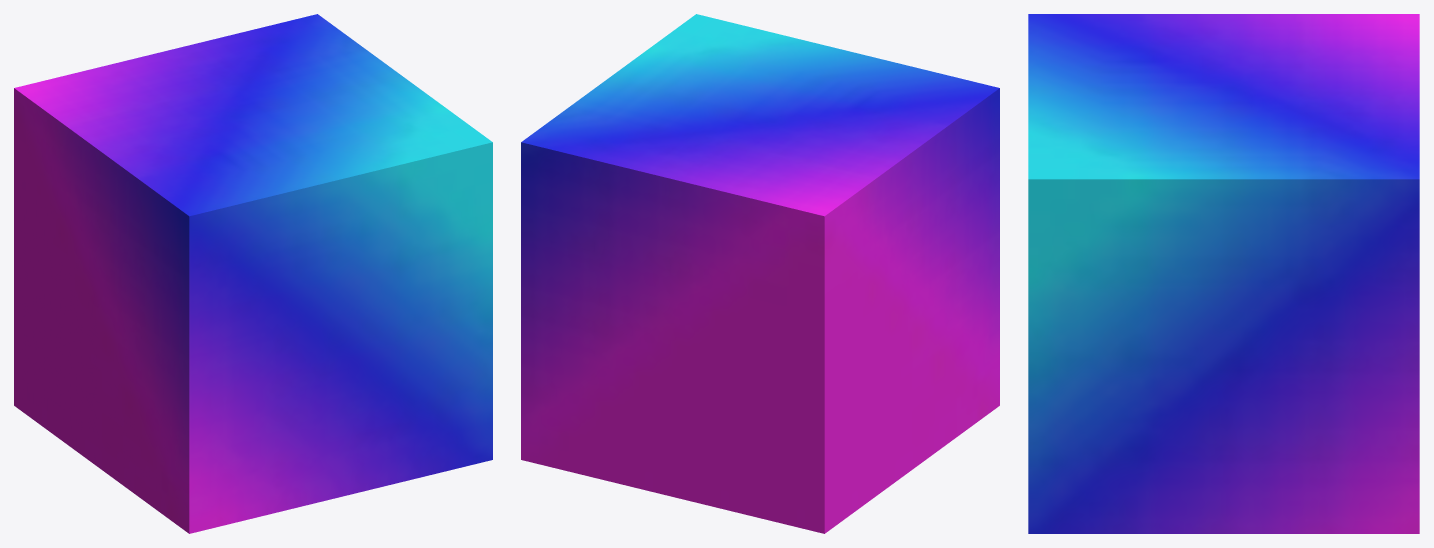
Rendered from sf-rainbow-morph-animation-18c96b.glb.
3 renders of one model, left to right at view 1: azimuth 30°, elevation 25°; view 2: azimuth 150°, elevation 25°; view 3: azimuth 270°, elevation 25°, orthographic. The views are drawn at different scales.
Parts seen in each view (by area): view 1: frame_0; view 2: frame_0; view 3: frame_0.
Part boxes in pixels (x1,y1,x2,y2): frame_0: (14, 14, 492, 533); frame_0: (521, 14, 999, 533); frame_0: (1028, 14, 1419, 533).
Size of the model in its own units: 2 by 2 by 2.
100 materials, 100 textured.
